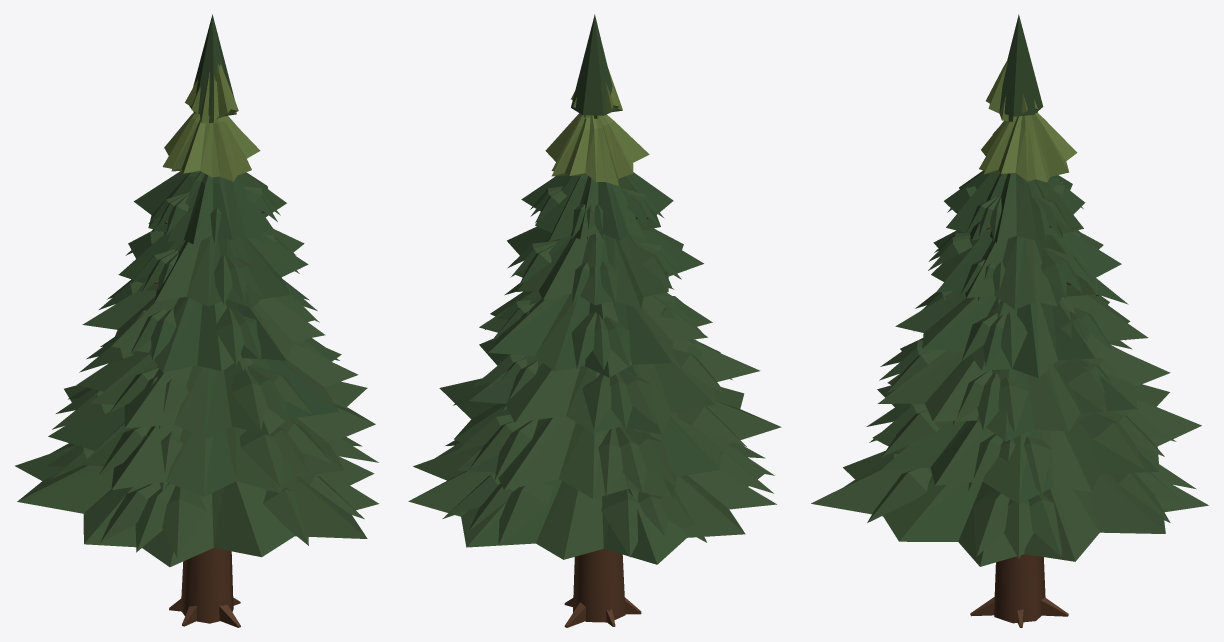
Rendered from tree_pine_a.glb.
The picture shows the model from 3 angles, left to right: view 1: azimuth 30°, elevation 25°; view 2: azimuth 150°, elevation 25°; view 3: azimuth 270°, elevation 25°; orthographic projection.
Visible parts, largest first — view 1: tree_pine_a_LOD0; view 2: tree_pine_a_LOD0; view 3: tree_pine_a_LOD0.
Boxes of the visible parts, <box> form: tree_pine_a_LOD0: <box>15,14,378,627</box>; tree_pine_a_LOD0: <box>408,14,781,627</box>; tree_pine_a_LOD0: <box>811,14,1208,627</box>.
Size of what is drawn, in the model's own units: 4.06 by 7.04 by 4.24.
